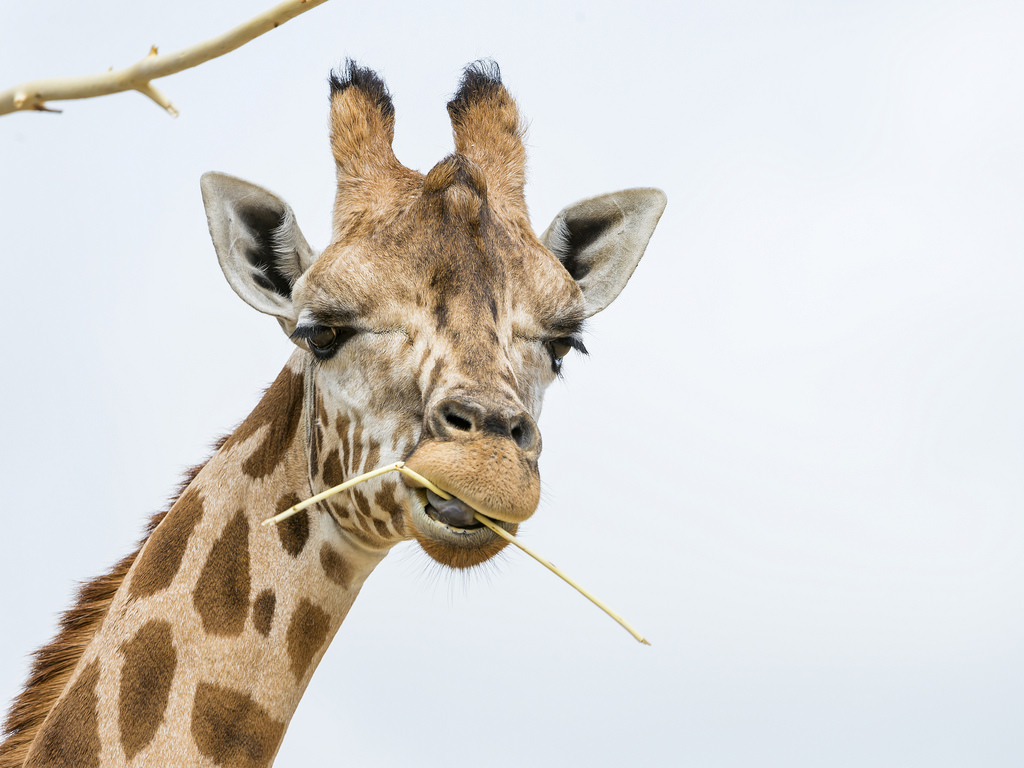giraffe: (87, 57, 687, 747)
